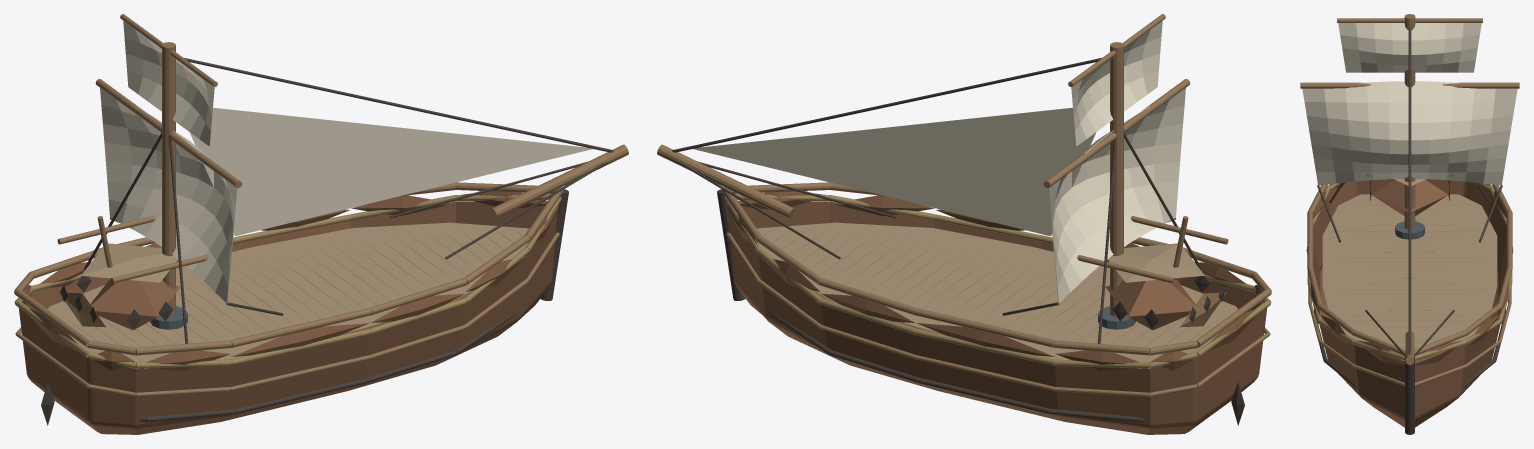
The model's file is transport.glb.
The picture shows the model from 3 angles, left to right: view 1: azimuth 30°, elevation 25°; view 2: azimuth 150°, elevation 25°; view 3: azimuth 270°, elevation 25°; orthographic projection. The views are drawn at different scales.
Visible parts, largest first — view 1: Hull; view 2: Hull; view 3: Hull.
Part boxes in pixels (box(x1,y1,x2,y2)): Hull: box(14, 14, 628, 434); Hull: box(657, 14, 1271, 434); Hull: box(1300, 14, 1519, 434).
Bounding box in the file's own units: 213 × 122 × 88.
